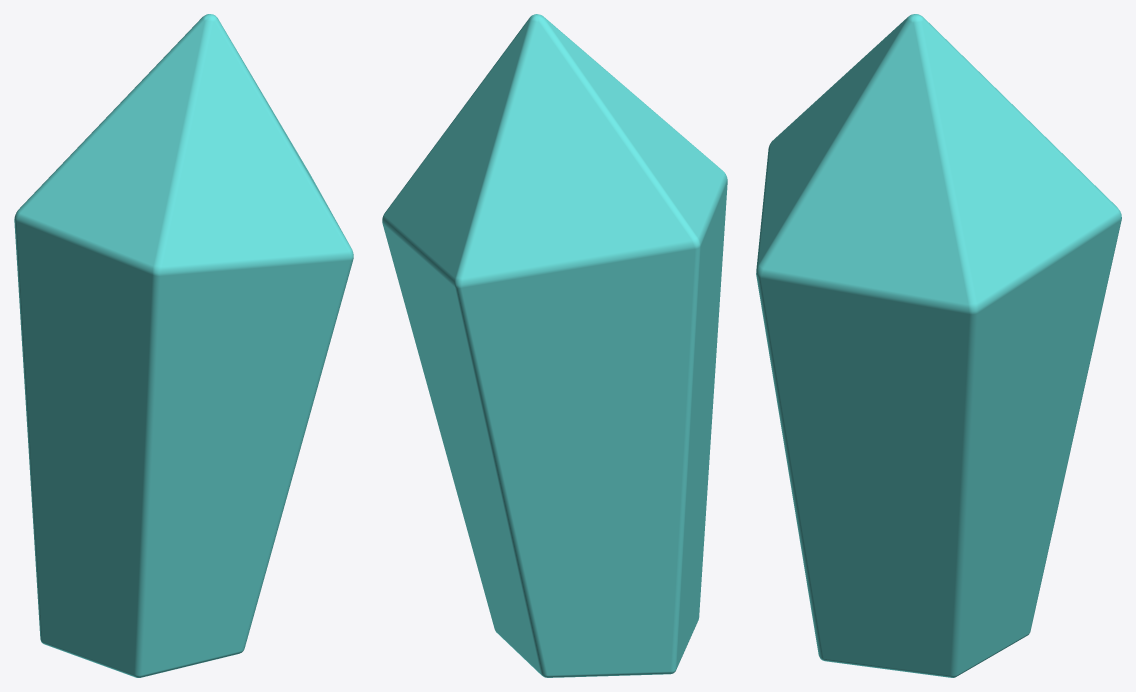
The model's file is Crystal_04.fbx.
3 renders of one model, left to right at view 1: azimuth 30°, elevation 25°; view 2: azimuth 150°, elevation 25°; view 3: azimuth 270°, elevation 25°, orthographic. The views are drawn at different scales.
Visible parts, largest first — view 1: Cylinder; view 2: Cylinder; view 3: Cylinder.
Boxes of the visible parts, x1,y1,x2,y2 form: Cylinder: (14, 14, 353, 677); Cylinder: (382, 14, 727, 677); Cylinder: (756, 14, 1121, 677).
Size of the model in its own units: 211 by 401 by 204.
